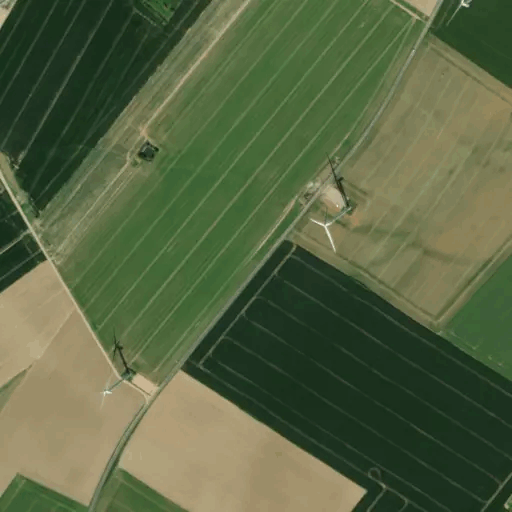wt: (296, 146, 373, 271), (88, 325, 153, 414)
